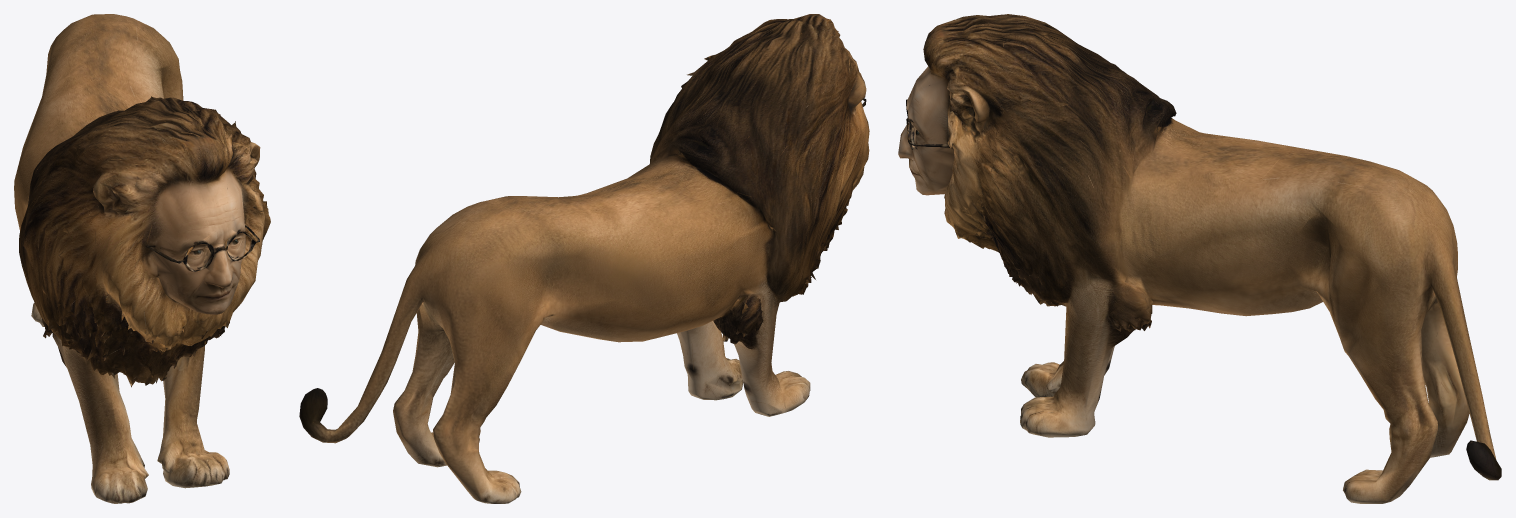
Rendered from Meshy_AI_Lion_with_a_Human_Fac_0518064235_texture.obj.
3 renders of one model, left to right at view 1: azimuth 30°, elevation 25°; view 2: azimuth 150°, elevation 25°; view 3: azimuth 270°, elevation 25°, orthographic. The views are drawn at different scales.
Parts seen in each view (by area): view 1: Meshy_AI_Lion_with_a_Human_Fac_0518064235_texture; view 2: Meshy_AI_Lion_with_a_Human_Fac_0518064235_texture; view 3: Meshy_AI_Lion_with_a_Human_Fac_0518064235_texture.
Boxes of the visible parts, x1,y1,x2,y2 form: Meshy_AI_Lion_with_a_Human_Fac_0518064235_texture: (14,14,270,503); Meshy_AI_Lion_with_a_Human_Fac_0518064235_texture: (299,14,869,503); Meshy_AI_Lion_with_a_Human_Fac_0518064235_texture: (898,14,1501,503).
Size of the model in its own units: 1.02 by 1 by 1.43.
1 material, 1 textured.
